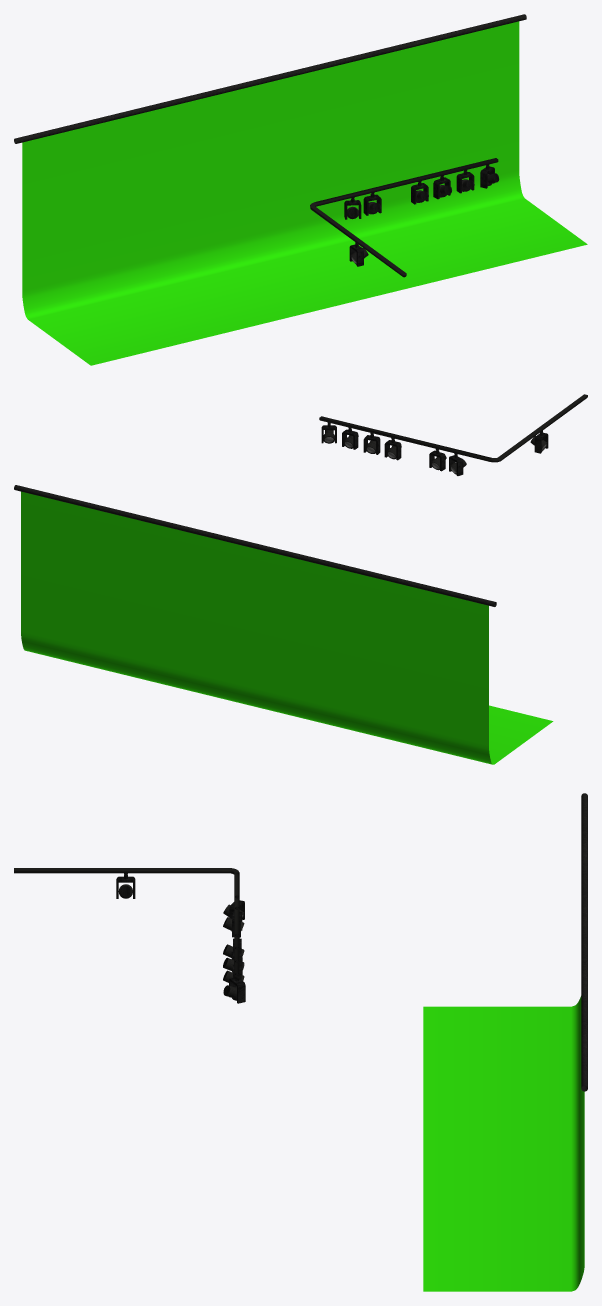
Rendered from FNaF1GreenStage.fbx.
3 views of the same model, one above another, from view 1: azimuth 30°, elevation 25°; view 2: azimuth 150°, elevation 25°; view 3: azimuth 270°, elevation 25° (orthographic). The views are drawn at different scales.
Visible parts, largest first — view 1: Circle.051, Circle.061; view 2: Circle.051, Circle.061; view 3: Circle.051, Circle.061.
Boxes of the visible parts, x1,y1,x2,y2 form: Circle.051: (14, 14, 587, 365); Circle.061: (310, 158, 499, 277); Circle.051: (14, 485, 553, 764); Circle.061: (319, 394, 587, 475); Circle.051: (423, 793, 587, 1291); Circle.061: (14, 868, 245, 1003).
Size of the model in its own units: 671 by 233 by 556.
